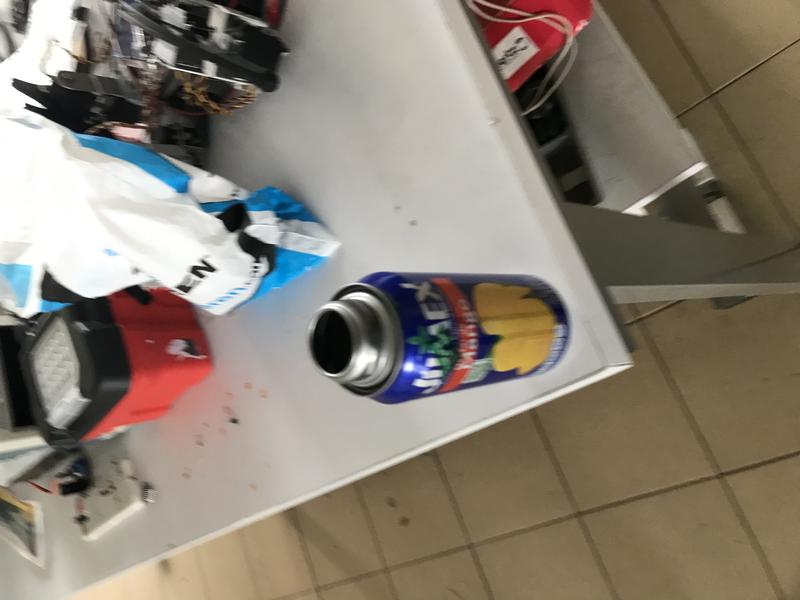jumex_botella: (307, 271, 573, 404)
